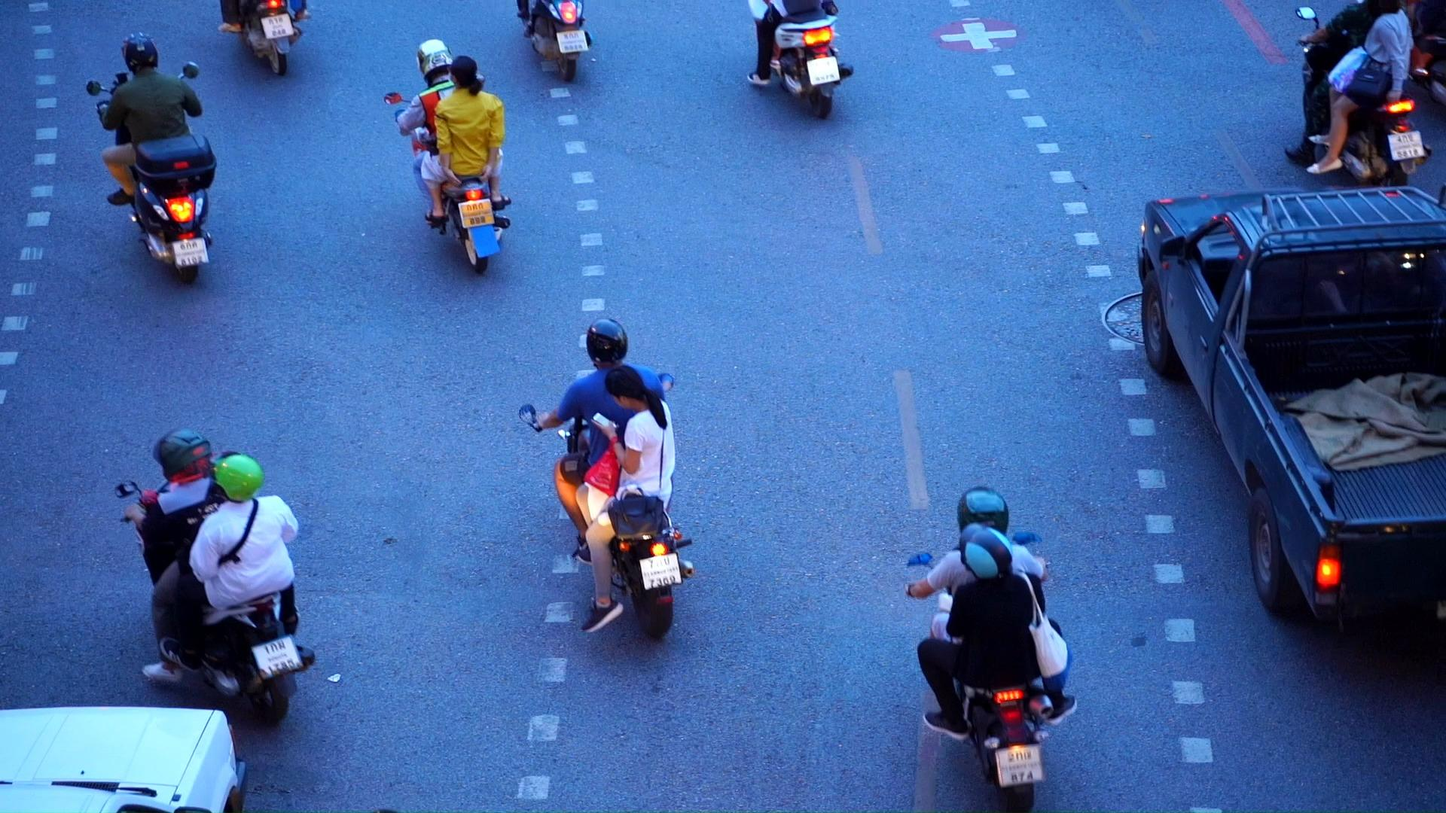driver: (113, 428, 316, 724), (901, 487, 1080, 813), (518, 317, 693, 640), (85, 31, 218, 286), (385, 39, 511, 274), (1284, 0, 1433, 187), (746, 0, 854, 119), (216, 1, 310, 78), (518, 0, 594, 82)
helmet: (153, 429, 212, 484), (960, 522, 1013, 583), (208, 450, 265, 504), (956, 488, 1009, 537), (586, 317, 628, 370), (120, 30, 159, 74), (416, 39, 453, 83)
no-helmet: (605, 365, 668, 414), (447, 56, 484, 96), (1367, 0, 1401, 20)
